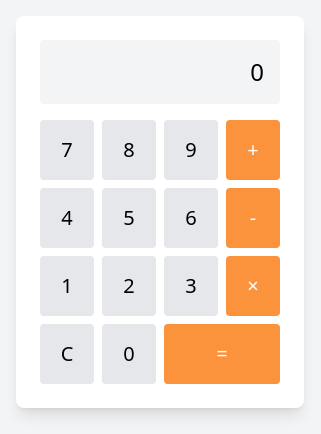
Test: Calculator › clears the display when C button is clicked
The width and height of the screenshot is (321, 434).
Click the button "5" at (129, 218), box [102,188,156,248]
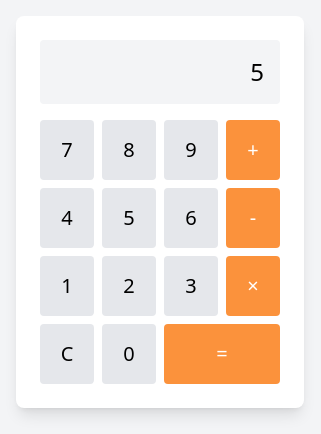
Click the button "C" at (67, 354), box [40,324,94,384]
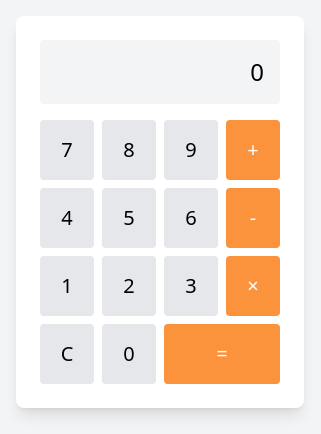
Now the text with test id "display" reads "0", box [250,55,264,88]
